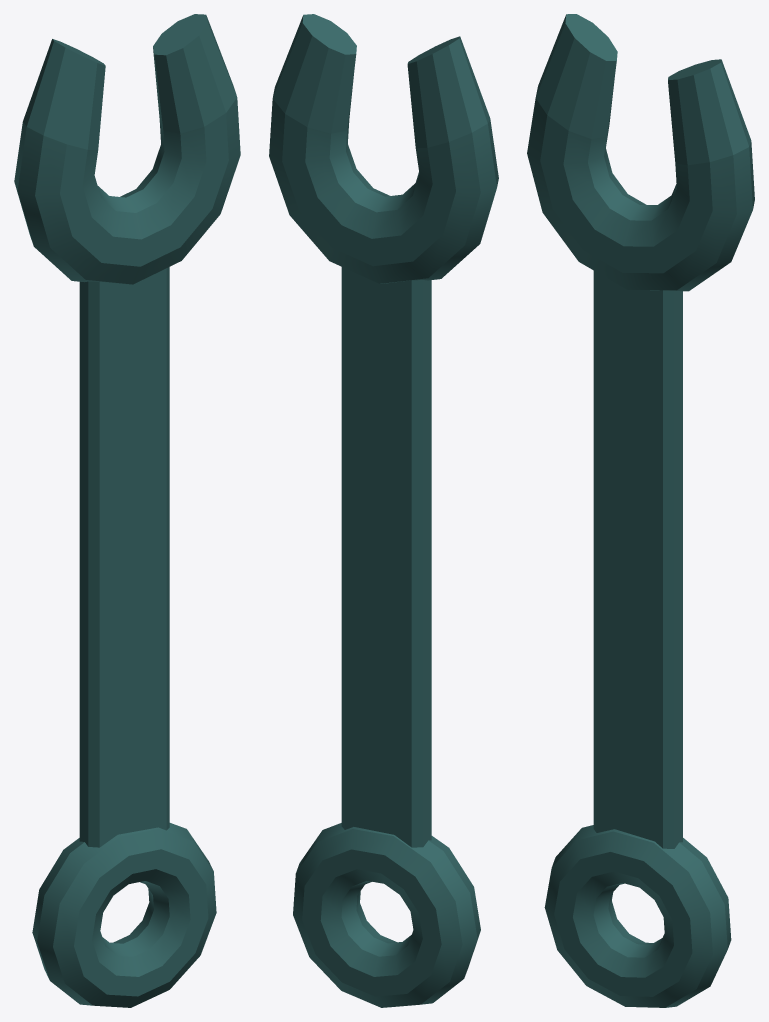
The model's file is wrench 2 low.fbx.
3 renders of one model, left to right at view 1: azimuth 30°, elevation 25°; view 2: azimuth 150°, elevation 25°; view 3: azimuth 330°, elevation 25°, orthographic.
Parts seen in each view (by area): view 1: wrench2_03_low, wrench2_02_low, wrench2_01_low; view 2: wrench2_03_low, wrench2_02_low, wrench2_01_low; view 3: wrench2_03_low, wrench2_02_low, wrench2_01_low.
Part boxes in pixels (x1,y1,x2,y2): wrench2_03_low: (79, 267, 169, 847); wrench2_02_low: (14, 14, 240, 284); wrench2_01_low: (32, 823, 216, 1007); wrench2_03_low: (341, 267, 431, 847); wrench2_02_low: (269, 14, 498, 283); wrench2_01_low: (293, 823, 480, 1007); wrench2_03_low: (593, 271, 682, 848); wrench2_02_low: (527, 14, 754, 291); wrench2_01_low: (544, 825, 731, 1007).
Bounding box in the file's own units: 10.82 × 45.61 × 2.85.
